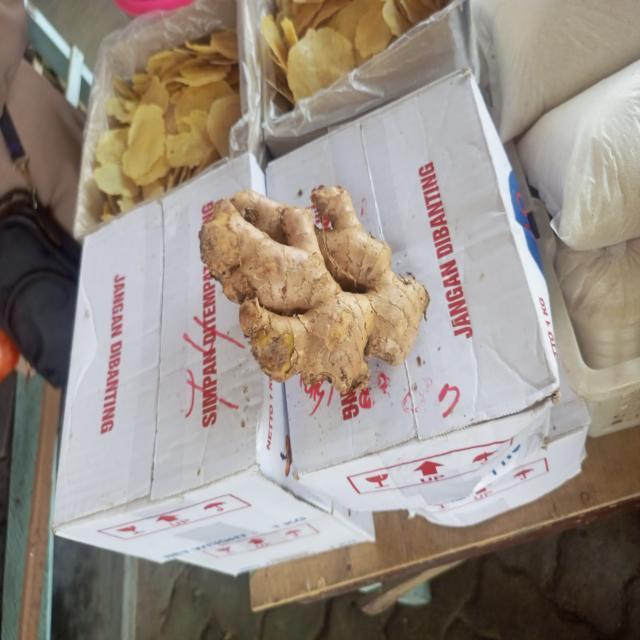ginger: (206, 185, 429, 387)
